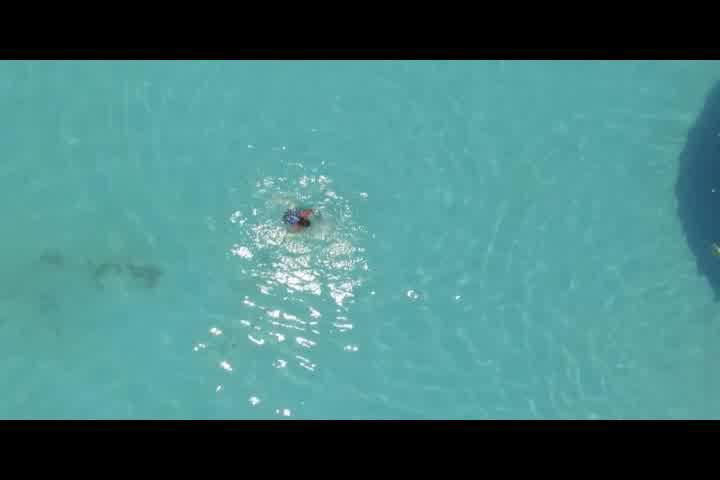swimmer: (277, 203, 316, 232)
